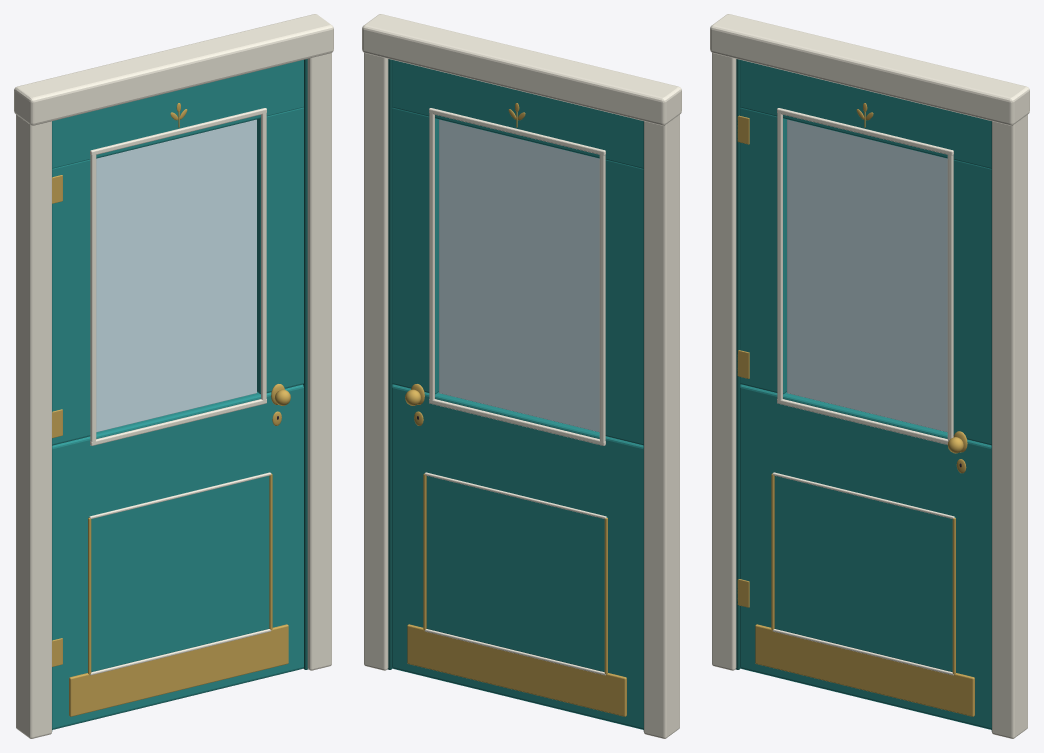
File: entrance_door.glb
3 renders of one model, left to right at view 1: azimuth 30°, elevation 25°; view 2: azimuth 150°, elevation 25°; view 3: azimuth 330°, elevation 25°, orthographic.
Visible parts, largest first — view 1: Window_glass, Lower_leaf, Recessed_panel.001, Cream_door_jamb, Cream_door_jamb.001, Cream_door_header, Glazed_side_stile.001, Top_rail, Glazed_side_stile, Brass_kickplate.001, Teal_frame_liner.001, Window_moulding.004 (+8 smaller); view 2: Window_glass, Lower_leaf, Recessed_panel, Cream_door_jamb, Cream_door_jamb.001, Cream_door_header, Glazed_side_stile.001, Top_rail, Glazed_side_stile, Brass_kickplate, Teal_frame_liner.001, Window_moulding.002 (+8 smaller); view 3: Window_glass, Lower_leaf, Recessed_panel.001, Cream_door_jamb.001, Cream_door_jamb, Cream_door_header, Top_rail, Glazed_side_stile, Glazed_side_stile.001, Brass_kickplate.001, Teal_frame_liner, Window_moulding.006 (+8 smaller).
Boxes of the visible parts, x1,y1,x2,y2 form: Window_glass: (96, 119, 256, 432); Lower_leaf: (52, 384, 303, 729); Recessed_panel.001: (88, 476, 269, 671); Cream_door_jamb: (16, 87, 51, 738); Cream_door_jamb.001: (307, 14, 331, 670); Cream_door_header: (14, 14, 333, 125); Glazed_side_stile.001: (257, 107, 303, 394); Top_rail: (52, 60, 303, 168); Glazed_side_stile: (52, 159, 90, 445); Brass_kickplate.001: (69, 624, 288, 716); Teal_frame_liner.001: (303, 59, 308, 669); Window_moulding.004: (90, 154, 96, 442); Window_glass: (439, 119, 599, 432); Lower_leaf: (392, 384, 643, 729); Recessed_panel: (426, 476, 607, 671); Cream_door_jamb: (644, 87, 679, 738); Cream_door_jamb.001: (364, 14, 388, 670); Cream_door_header: (362, 14, 681, 125); Glazed_side_stile.001: (392, 107, 438, 394); Top_rail: (392, 60, 643, 168); Glazed_side_stile: (605, 159, 643, 445); Brass_kickplate: (407, 624, 626, 716); Teal_frame_liner.001: (387, 59, 392, 669); Window_moulding.002: (599, 154, 605, 442); Window_glass: (787, 119, 947, 432); Lower_leaf: (740, 384, 991, 729); Recessed_panel.001: (774, 476, 955, 671); Cream_door_jamb.001: (992, 87, 1027, 738); Cream_door_jamb: (712, 14, 736, 670); Cream_door_header: (710, 14, 1029, 125); Top_rail: (740, 60, 991, 168); Glazed_side_stile: (740, 107, 786, 394); Glazed_side_stile.001: (953, 159, 991, 445); Brass_kickplate.001: (755, 624, 974, 716); Teal_frame_liner: (735, 59, 740, 669); Window_moulding.006: (947, 154, 953, 441).
Bounding box in the file's own units: 1.14 × 2.3 × 0.2.
